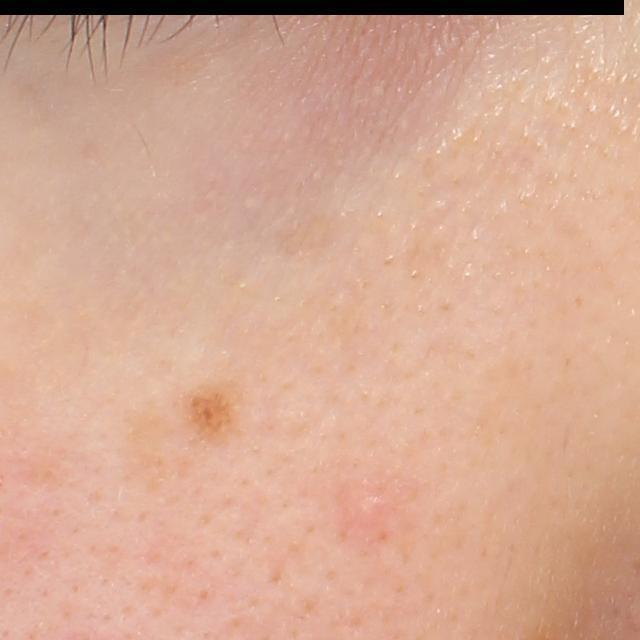melasma: (273, 207, 363, 262), (142, 52, 203, 110)
nevus: (188, 376, 242, 442)
